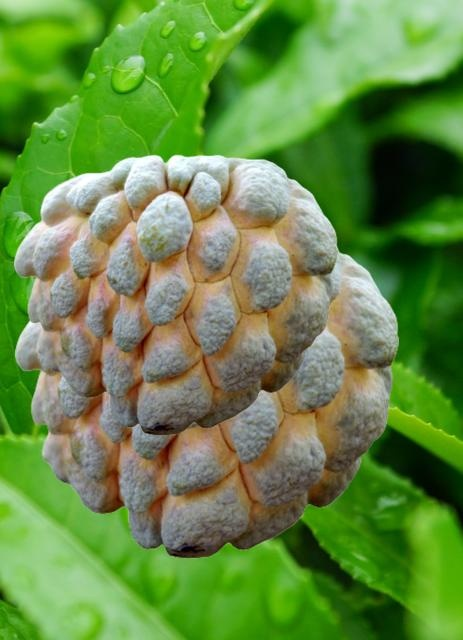atis: (15, 243, 397, 557), (14, 154, 336, 434)
